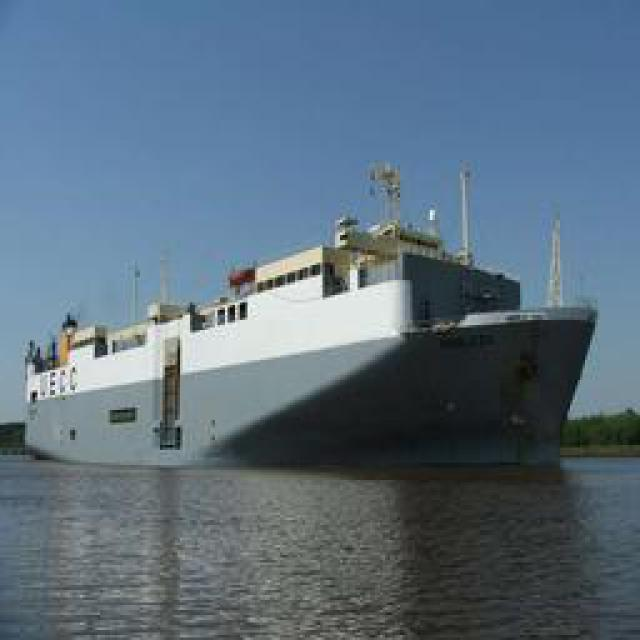Ship: (20, 157, 615, 467)
